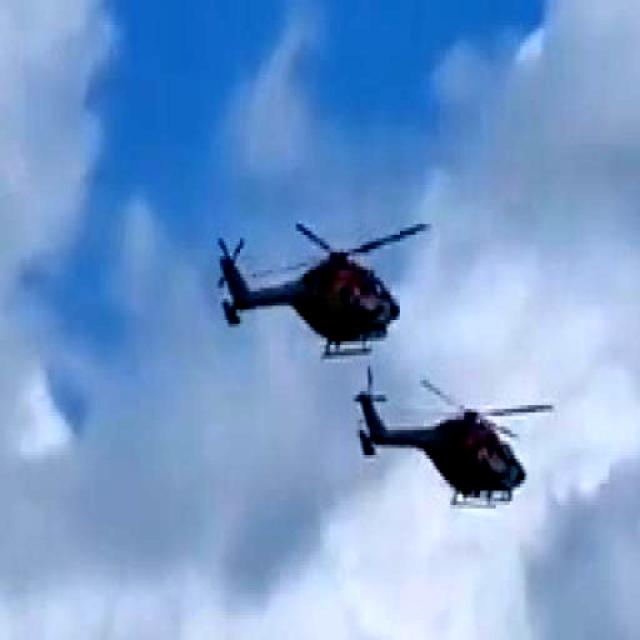drone: (204, 188, 416, 364), (336, 368, 539, 505)
